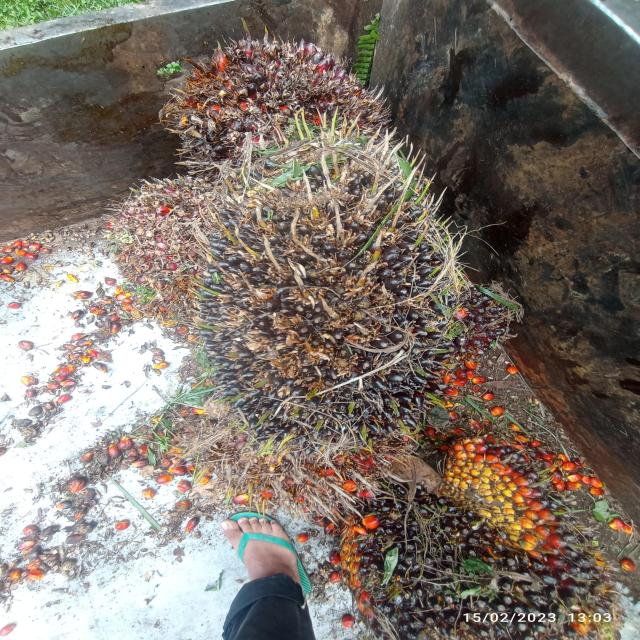fraksi 00: (154, 107, 498, 475), (321, 425, 634, 640)
fraksi 4: (138, 0, 428, 169)
